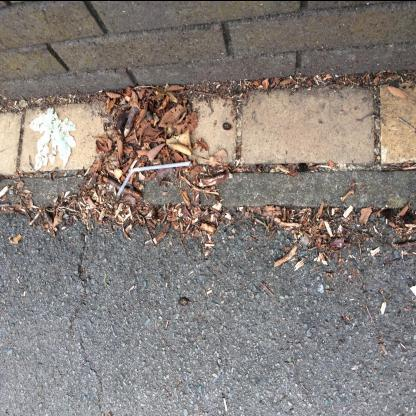plastik: (118, 161, 193, 197)
